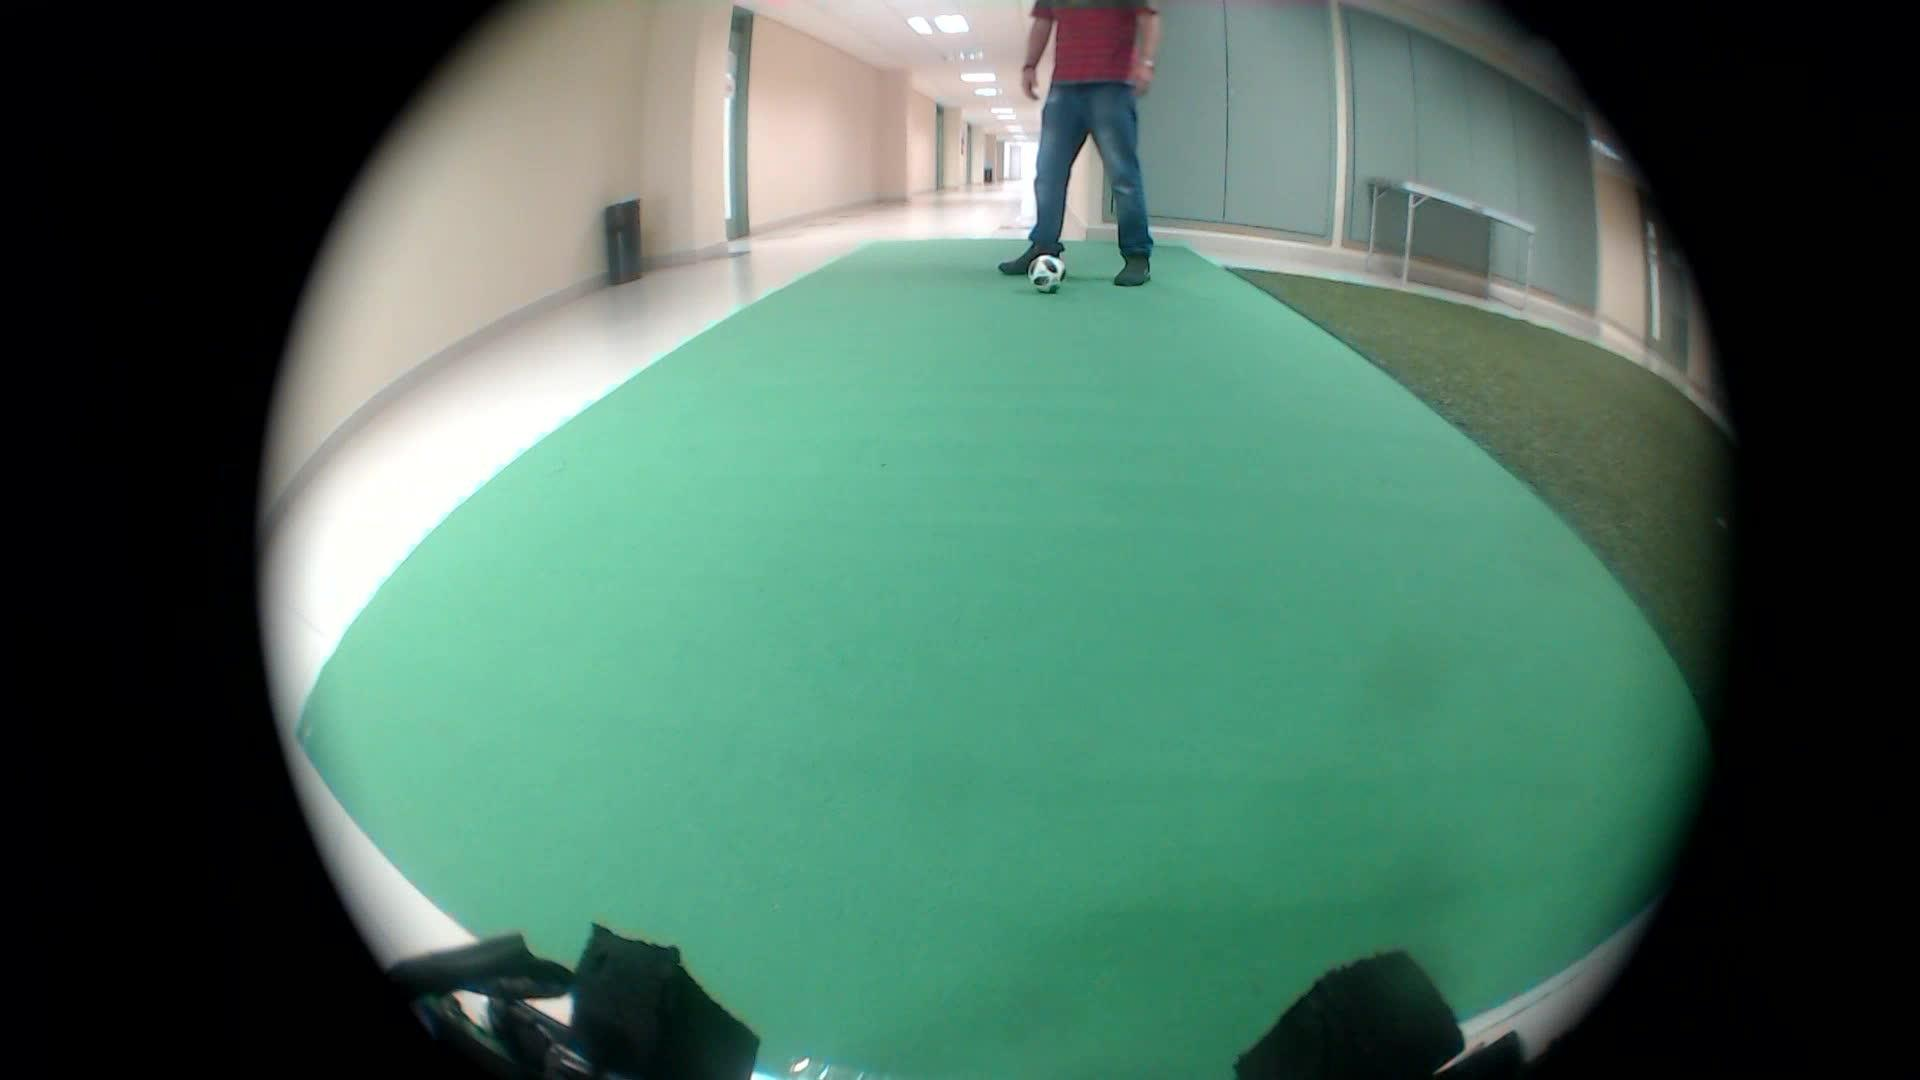ball: (1022, 248, 1067, 295)
